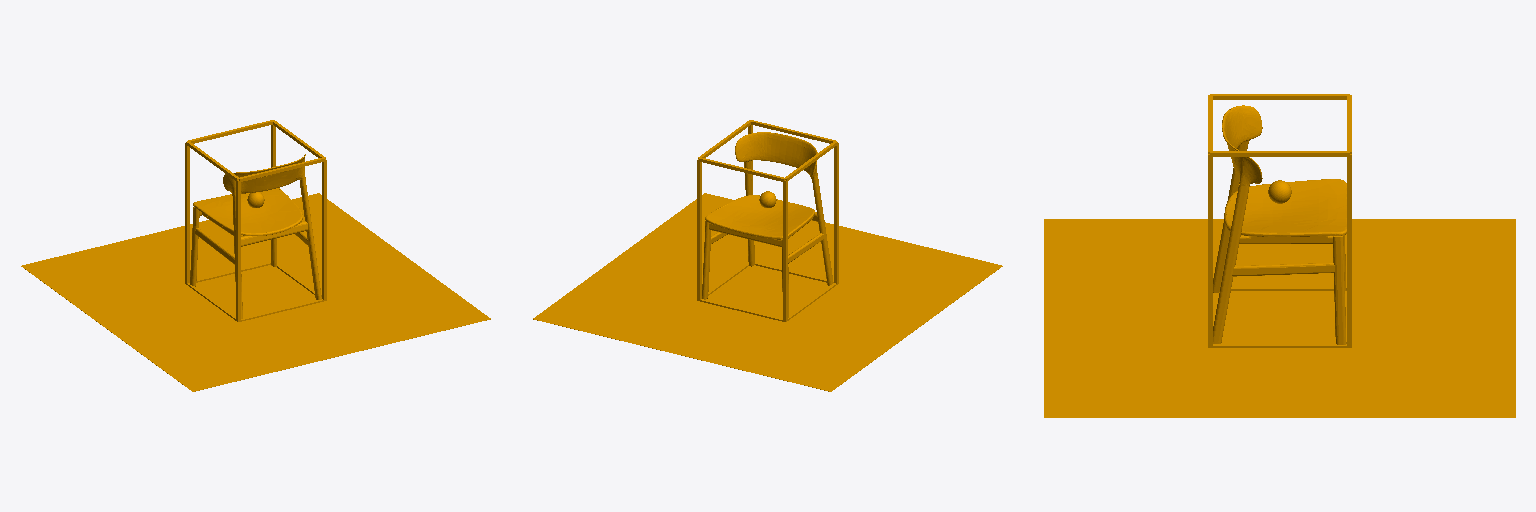
URDF robot description (object):
<?xml version="0.0"?>
	<robot name="object">
		<link name="object">
			<visual>
				<origin xyz="0 0 0"/>
				<geometry>
					<mesh filename="./geom/mesh.obj"/>
				</geometry>
			</visual>
			<inertial>
				<mass value="15.000"/>
			</inertial>
			<collision>
				<origin xyz="0 0 0"/>
				<geometry>
					<mesh filename="./geom/mesh.obj"/>
				</geometry>
			</collision>
		</link>

	</robot>

--- What the picture shows (computed from the rendered views, not written in the file) ---
The picture shows the robot from 3 angles, left to right: view 1: azimuth 30°, elevation 25°; view 2: azimuth 150°, elevation 25°; view 3: azimuth 270°, elevation 25°; orthographic projection.
Robot: object — 1 links, 0 joints (none); root link object; default pose: all joints at 0.
Visible links, largest first — view 1: object; view 2: object; view 3: object.
Boxes of the visible links, x1=… form: object: x1=21, y1=120, x2=490, y2=391; object: x1=533, y1=120, x2=1002, y2=391; object: x1=1044, y1=94, x2=1515, y2=417.
Size in the robot's own frame: 2 by 2 by 0.9248 metres.
1 mesh visuals loaded from 1 distinct referenced files (1 OBJ).